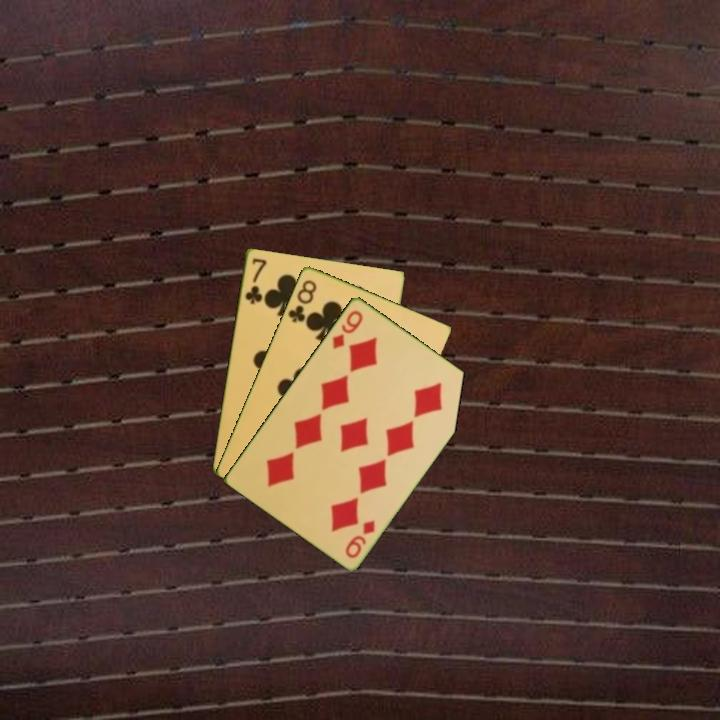7c: (241, 254, 269, 307)
8c: (284, 276, 319, 325)
9d: (329, 306, 366, 352), (341, 516, 378, 561)
